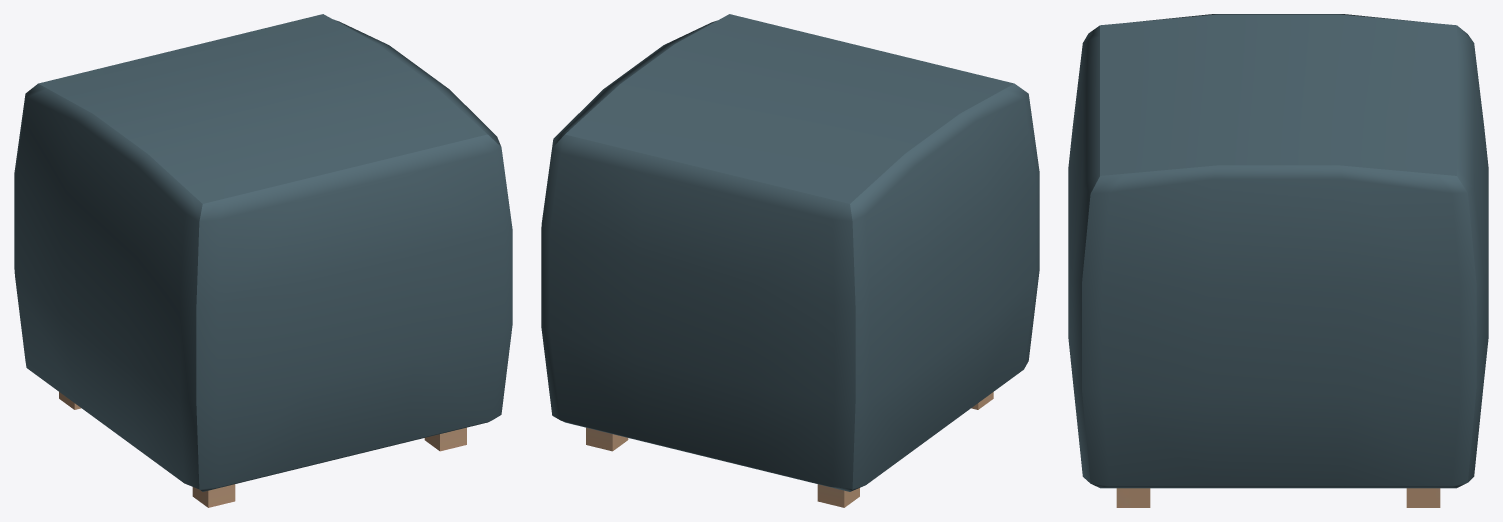
File: stool.fbx
3 views of the same model, side by side, from view 1: azimuth 30°, elevation 25°; view 2: azimuth 150°, elevation 25°; view 3: azimuth 270°, elevation 25° (orthographic). The views are drawn at different scales.
Parts seen in each view (by area): view 1: pCube6; view 2: pCube6; view 3: pCube6.
Boxes of the visible parts, left/top/right/bottom form: pCube6: left=14, top=14, right=512, bottom=507; pCube6: left=541, top=14, right=1039, bottom=507; pCube6: left=1068, top=14, right=1488, bottom=507.
Size of the model in its own units: 0.2901 by 0.2665 by 0.2901.
Materials: 1 (1 with a texture image).
